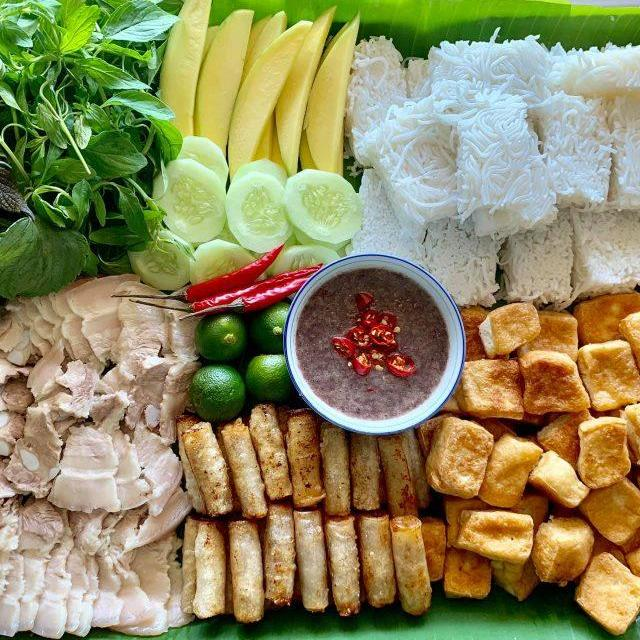bun: (333, 14, 640, 331)
bun dau: (0, 21, 640, 640)
cha gio: (160, 388, 442, 640)
dau hu: (425, 281, 640, 640)
thit heo: (0, 255, 216, 640)
